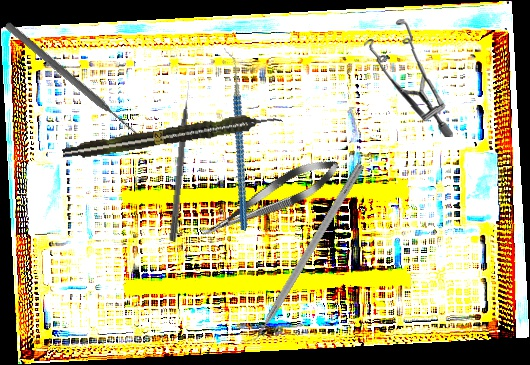Chopper: (236, 156, 365, 352), (177, 48, 293, 231)
Handpiece: (61, 109, 284, 163)
Micro Scissor: (194, 150, 345, 248)
Pusher: (2, 20, 144, 141), (168, 80, 195, 243)
Speculum: (361, 18, 456, 137)
